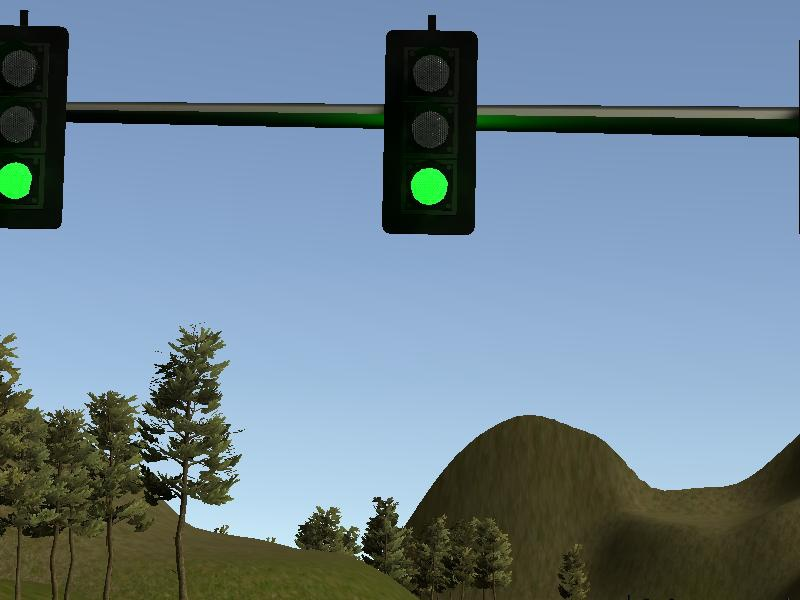Green: (381, 28, 479, 238), (1, 23, 73, 234)
